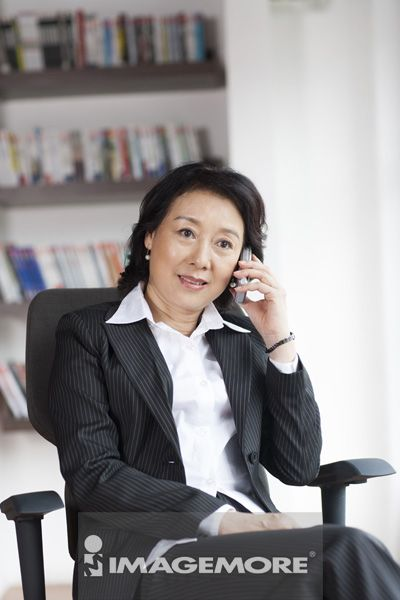phone: (233, 238, 254, 305)
talk: (155, 210, 280, 334)
